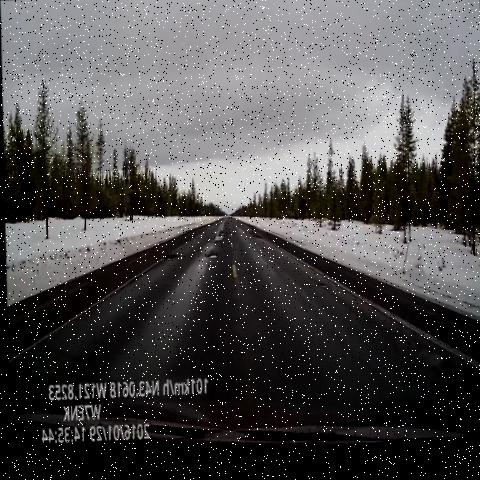pothole: (244, 225, 267, 253), (158, 250, 179, 278), (211, 226, 229, 251), (205, 242, 220, 267)
